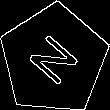N_SE: (22, 28, 85, 91)
